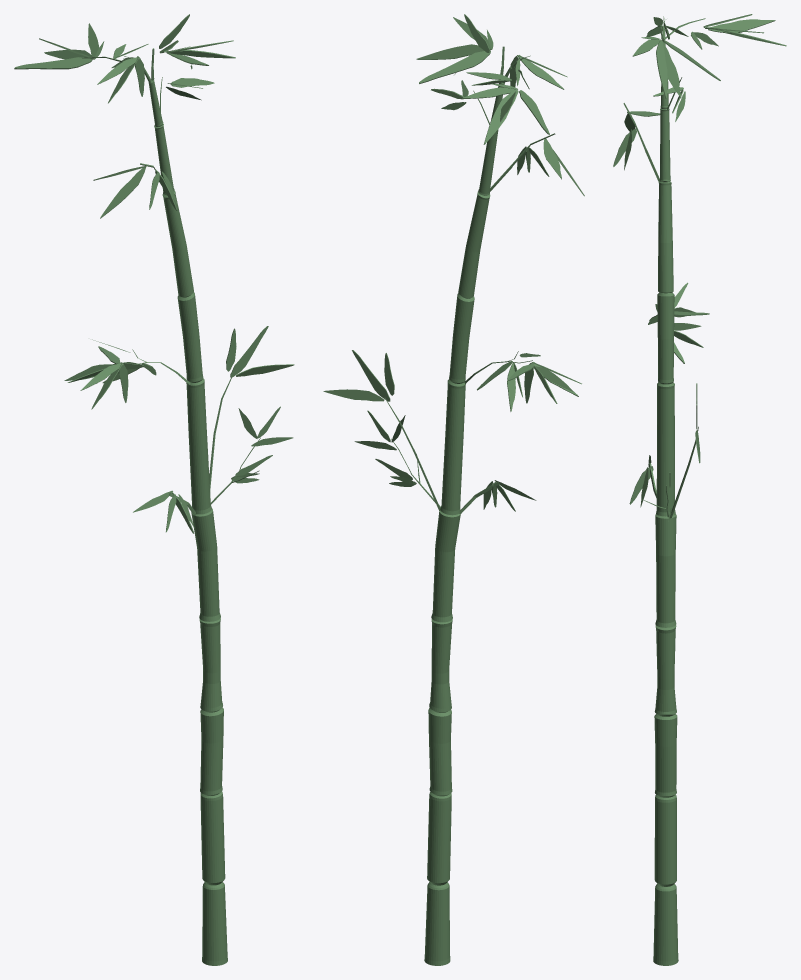
File: No2_bamboo.fbx
The picture shows the model from 3 angles, left to right: view 1: azimuth 30°, elevation 25°; view 2: azimuth 150°, elevation 25°; view 3: azimuth 270°, elevation 25°; orthographic projection. The views are drawn at different scales.
Parts seen in each view (by area): view 1: Plane.119; view 2: Plane.119; view 3: Plane.119.
Boxes of the visible parts, bbox=[...] form: Plane.119: bbox=[14, 14, 294, 965]; Plane.119: bbox=[323, 14, 584, 965]; Plane.119: bbox=[613, 14, 786, 965].
Size of the model in its own units: 2198 by 7892 by 1341.
